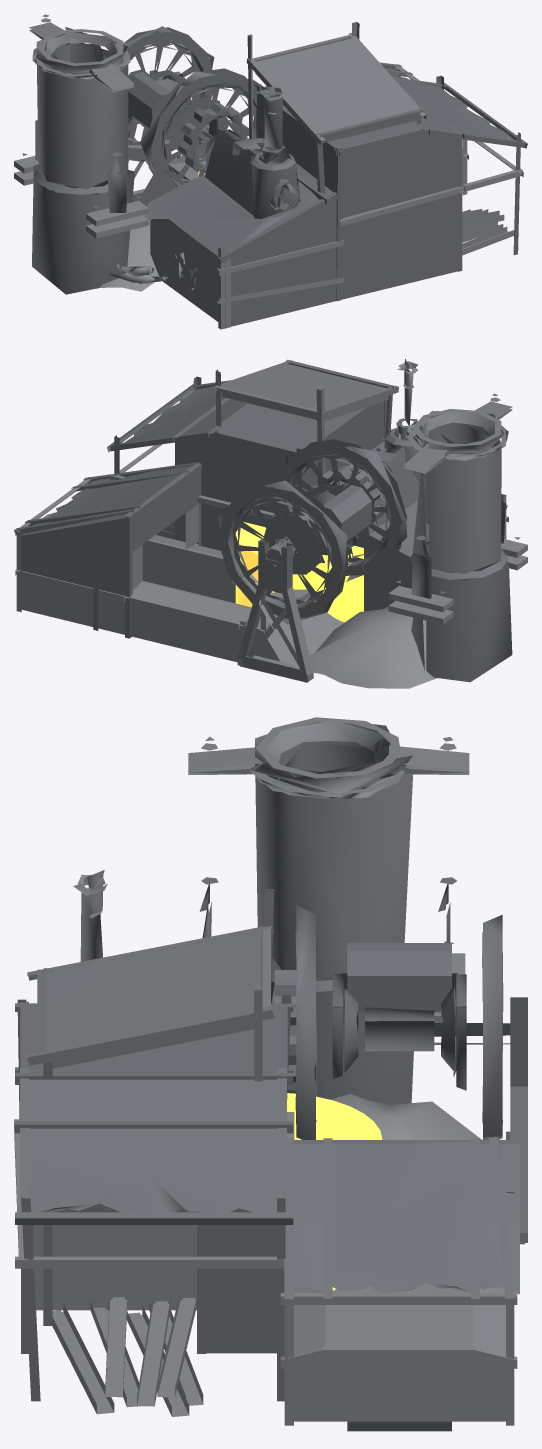
Rendered from steelworks.glb.
3 renders of one model, top to bottom at view 1: azimuth 30°, elevation 25°; view 2: azimuth 150°, elevation 25°; view 3: azimuth 270°, elevation 25°, orthographic. The views are drawn at different scales.
Visible parts, largest first — view 1: steelworks_Building; view 2: steelworks_Building; view 3: steelworks_Building.
Boxes of the visible parts, <box> form: steelworks_Building: <box>14,14,527,329</box>; steelworks_Building: <box>14,359,527,688</box>; steelworks_Building: <box>14,717,527,1431</box>.
Bounding box in the file's own units: 15.73 × 8.84 × 10.14.
